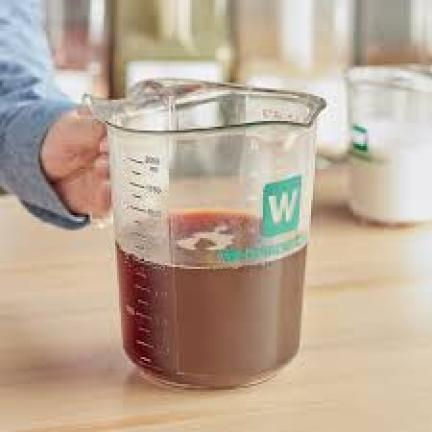container: (94, 81, 324, 386)
fluid: (114, 239, 309, 374)
fluid-surface: (121, 215, 310, 265)
